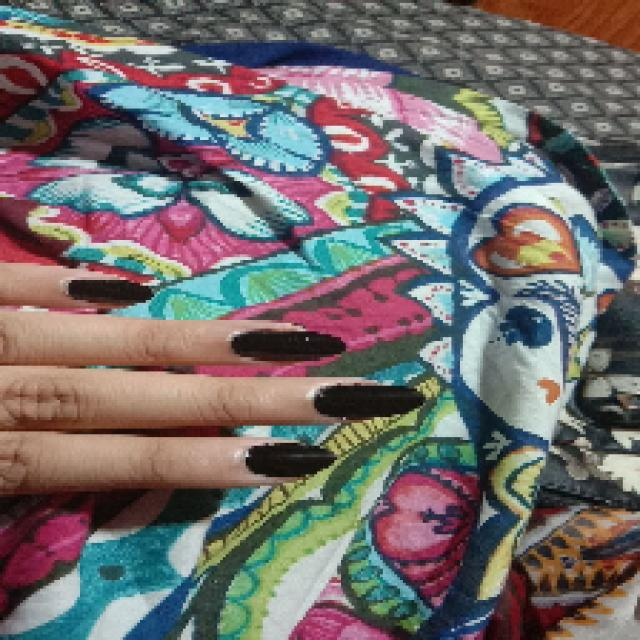Nail: (314, 386, 425, 419), (231, 331, 346, 360), (245, 444, 336, 478), (69, 279, 153, 303)
